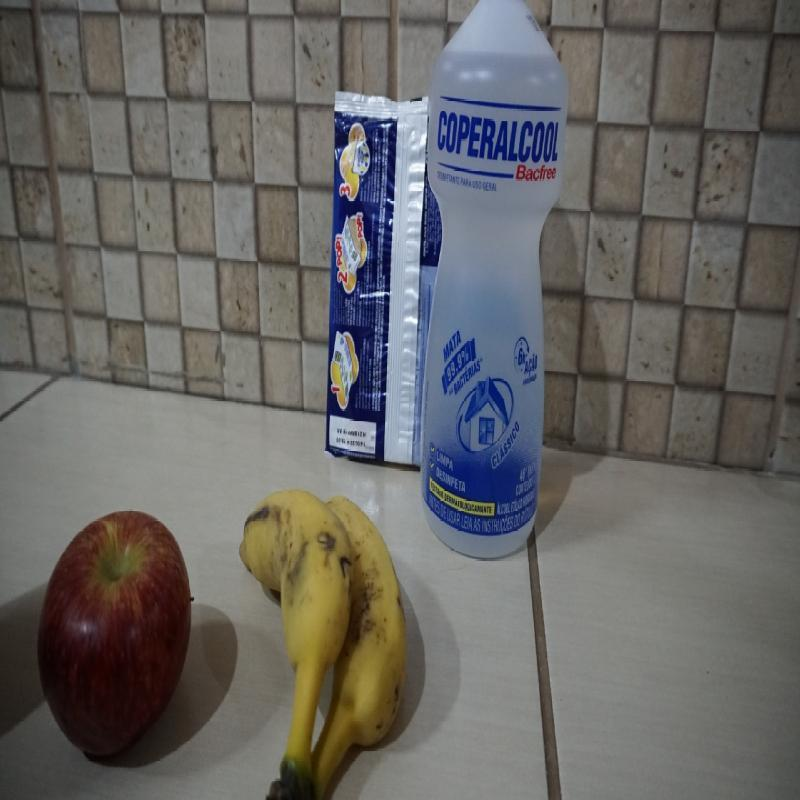Alcohol Bottle: (416, 0, 573, 563)
Apple: (36, 510, 194, 762)
Banana: (240, 488, 410, 800)
Popcorn: (323, 89, 442, 471)
